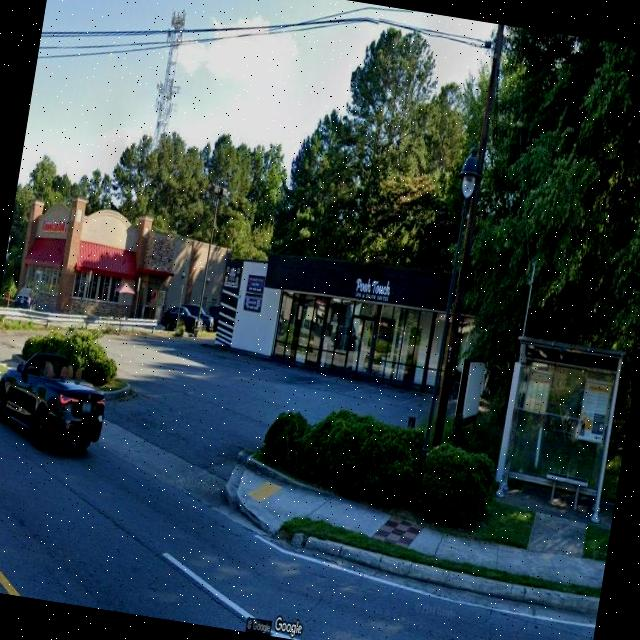seating: (540, 469, 591, 515)
shelter: (489, 334, 627, 524)
